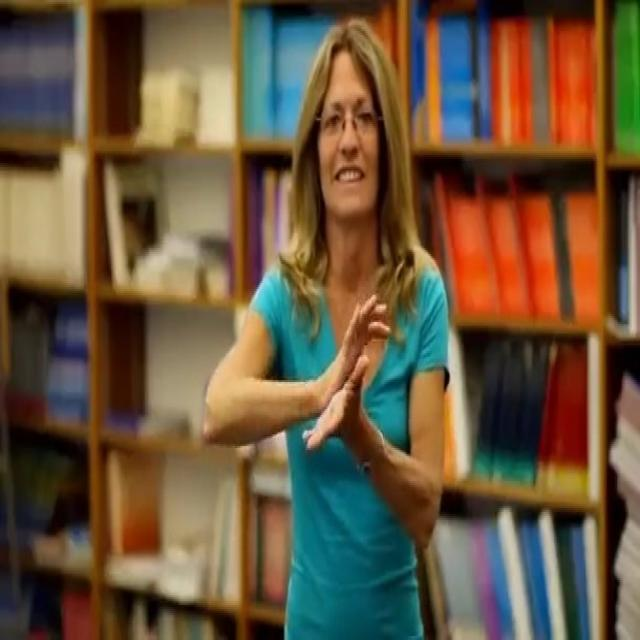cheese: (300, 286, 395, 456)
